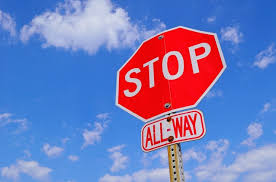stop sign: (116, 26, 228, 122)
